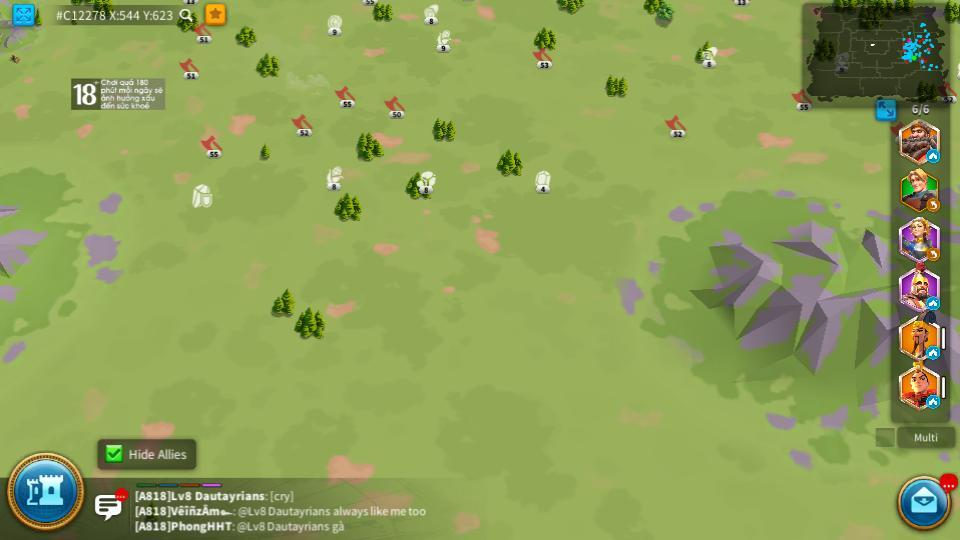gem-z-out: (534, 171, 552, 191)
march_idle: (926, 396, 940, 407), (927, 348, 940, 359), (925, 298, 938, 309), (927, 151, 940, 162)
march_returning: (926, 201, 941, 212), (927, 248, 940, 260)
